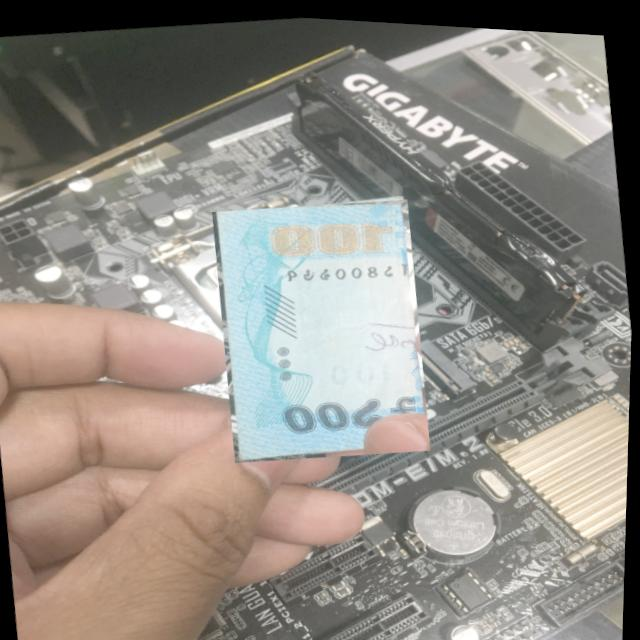Taka: (208, 185, 439, 468)
